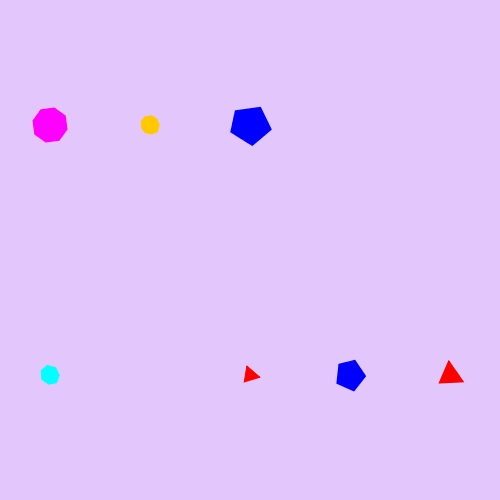heptagon: (36, 361, 65, 389)
nonagon: (136, 111, 165, 139)
octagon: (28, 103, 72, 147)
pentagon: (227, 102, 274, 149), (331, 356, 369, 394)
triangle: (435, 359, 466, 392), (238, 362, 263, 388)
